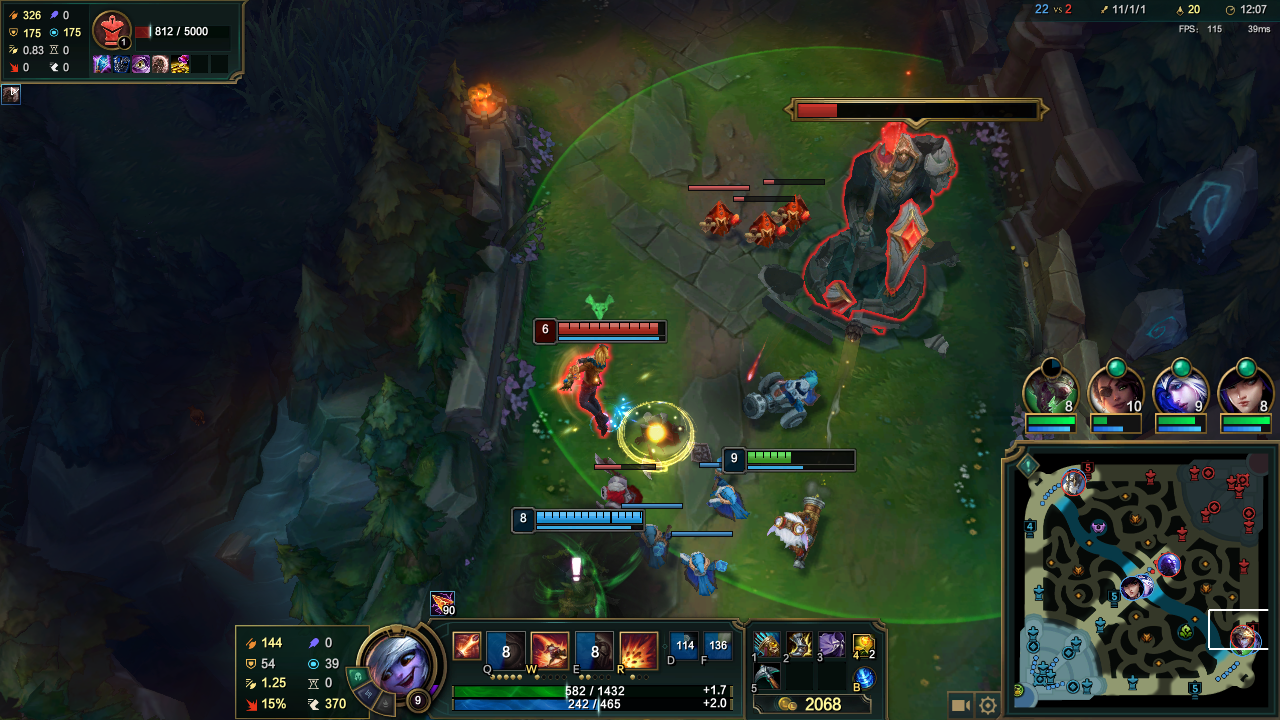DFFYT: (793, 94, 957, 335)
DFXB: (690, 200, 747, 241), (764, 190, 818, 229), (740, 207, 779, 252)
DFYX: (556, 322, 627, 342)
WFXB: (674, 540, 737, 599), (703, 479, 753, 525), (638, 521, 673, 570)
Yita: (1185, 672, 1205, 702)
